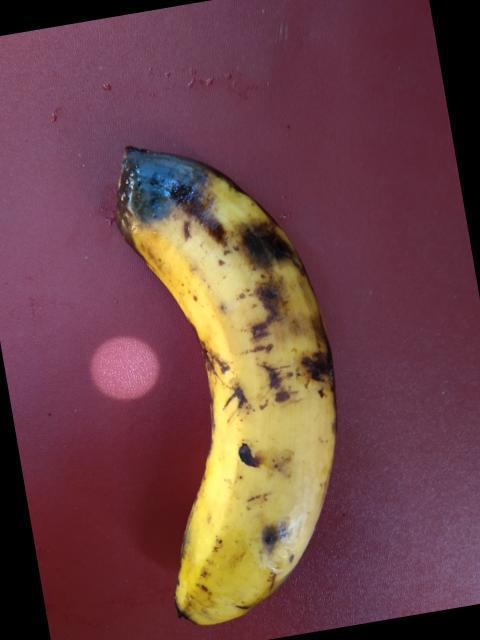overripe: (118, 266, 413, 639)
rotten: (95, 117, 326, 325)
